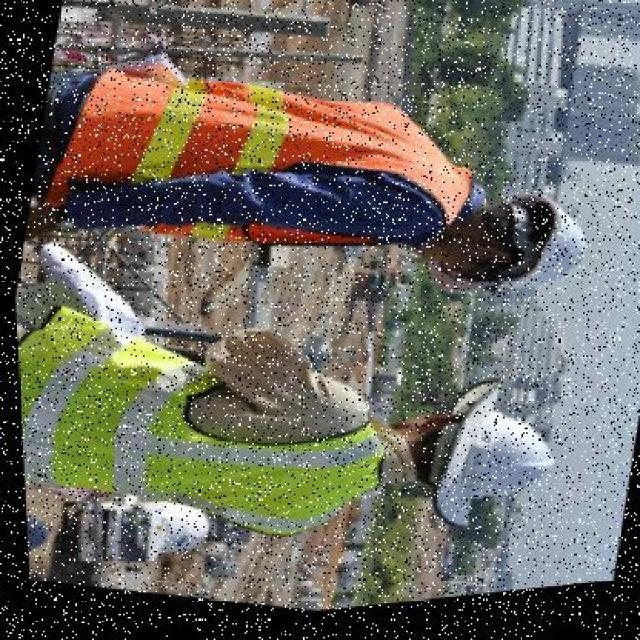helmet: (411, 374, 567, 560), (498, 191, 598, 319)
vest: (34, 31, 490, 312), (14, 308, 393, 574)
